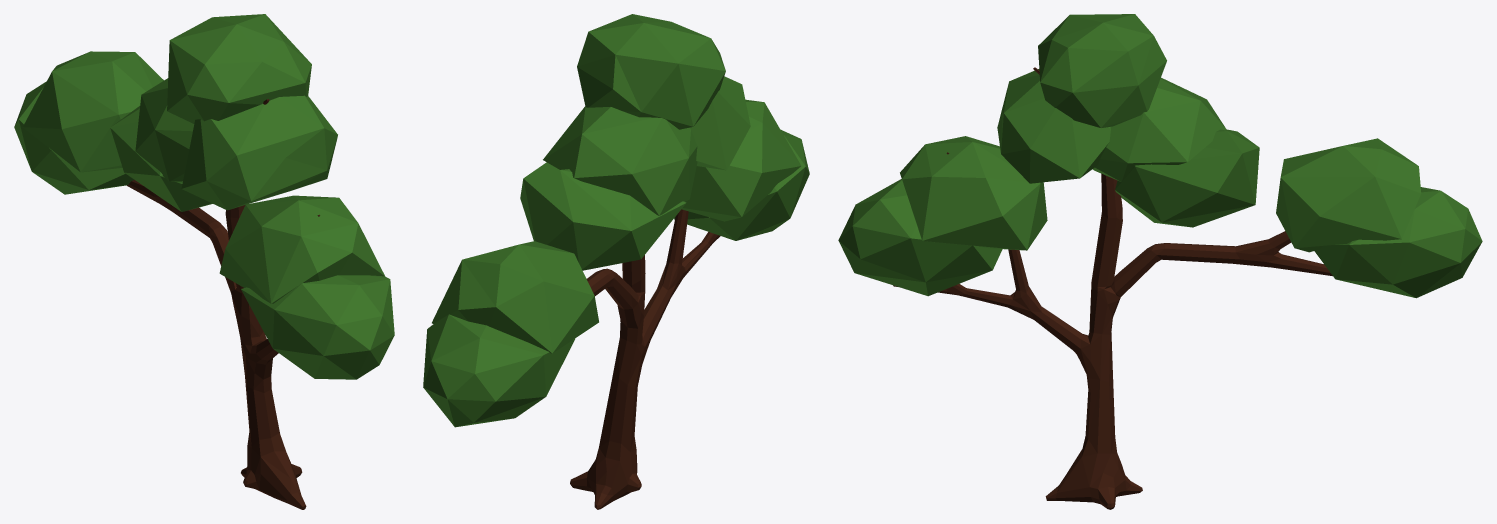
Rendered from tree.fbx.
The picture shows the model from 3 angles, left to right: view 1: azimuth 30°, elevation 25°; view 2: azimuth 150°, elevation 25°; view 3: azimuth 270°, elevation 25°; orthographic projection. The views are drawn at different scales.
Parts seen in each view (by area): view 1: Icosphere.002; view 2: Icosphere.002; view 3: Icosphere.002.
Part boxes in pixels (x1,y1,x2,y2): Icosphere.002: (14,14,394,509); Icosphere.002: (423,14,809,509); Icosphere.002: (838,14,1482,509).
Bounding box in the file's own units: 344 × 1137 × 1444.
